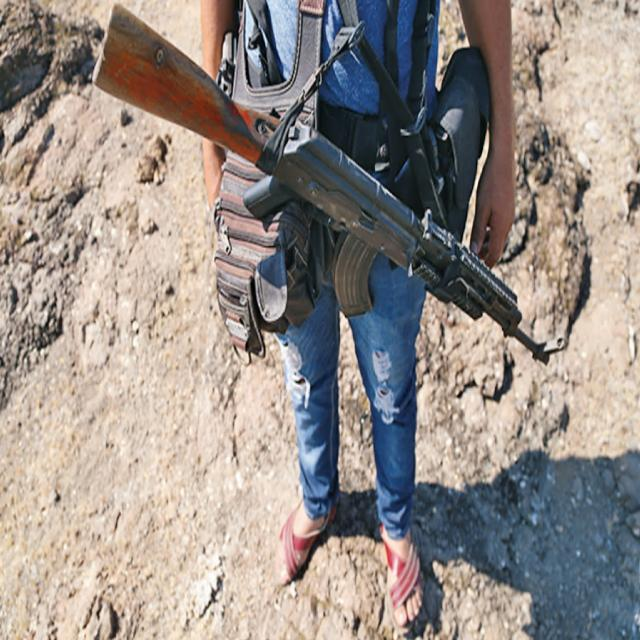weapon: (92, 2, 567, 368)
